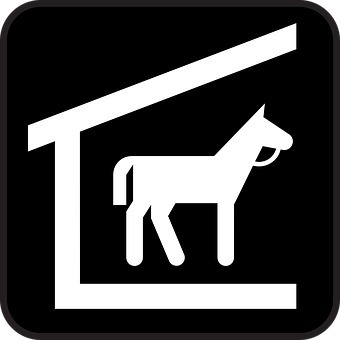horse: (92, 100, 301, 277)
